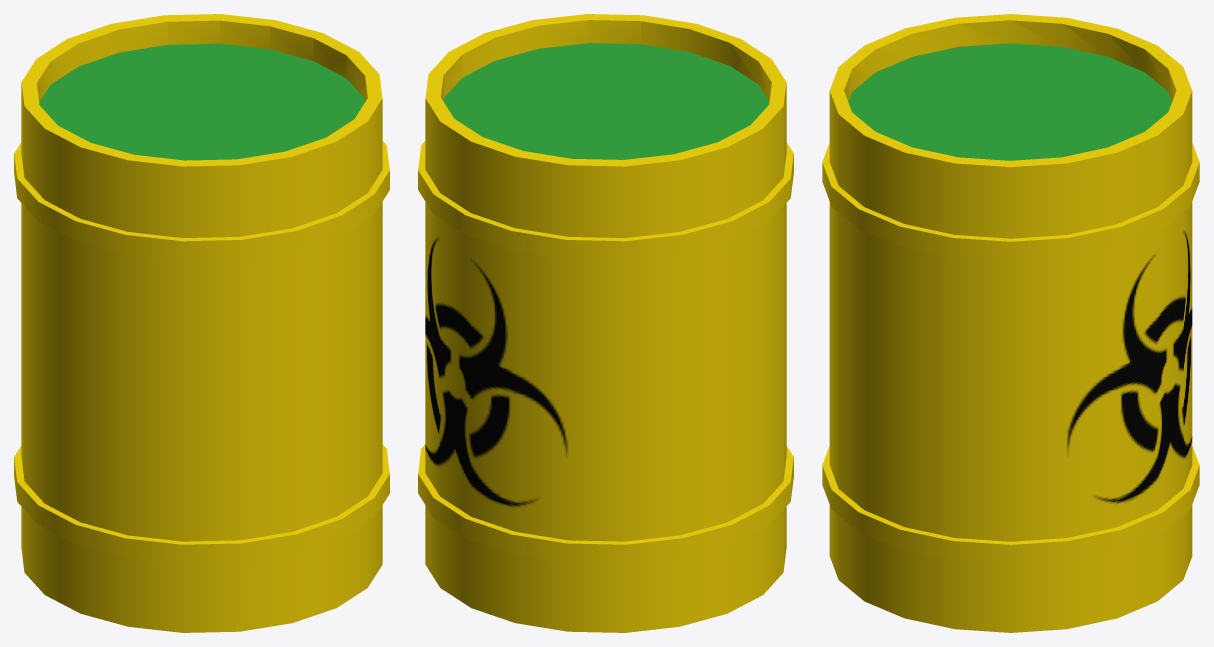
The model's file is Barrel_w_texture.fbx.
3 views of the same model, side by side, from view 1: azimuth 30°, elevation 25°; view 2: azimuth 150°, elevation 25°; view 3: azimuth 270°, elevation 25° (orthographic).
Visible parts, largest first — view 1: pCylinder12; view 2: pCylinder12; view 3: pCylinder12.
Boxes of the visible parts, left/top/right/bottom form: pCylinder12: left=14, top=14, right=389, bottom=632; pCylinder12: left=418, top=14, right=793, bottom=632; pCylinder12: left=822, top=14, right=1199, bottom=632.
Size of the model in its own units: 1.58 by 2.15 by 1.58.
